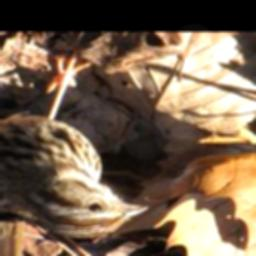Sparrow: (0, 42, 154, 240)
